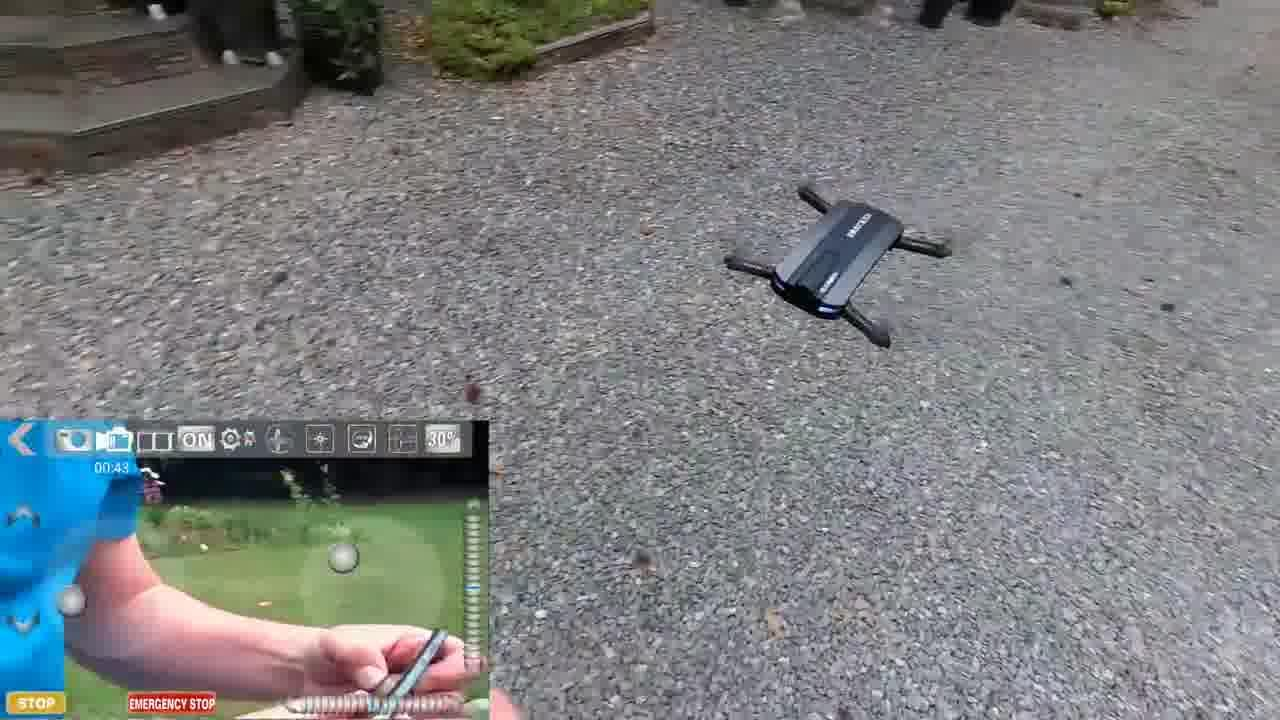drone: (704, 167, 968, 364)
